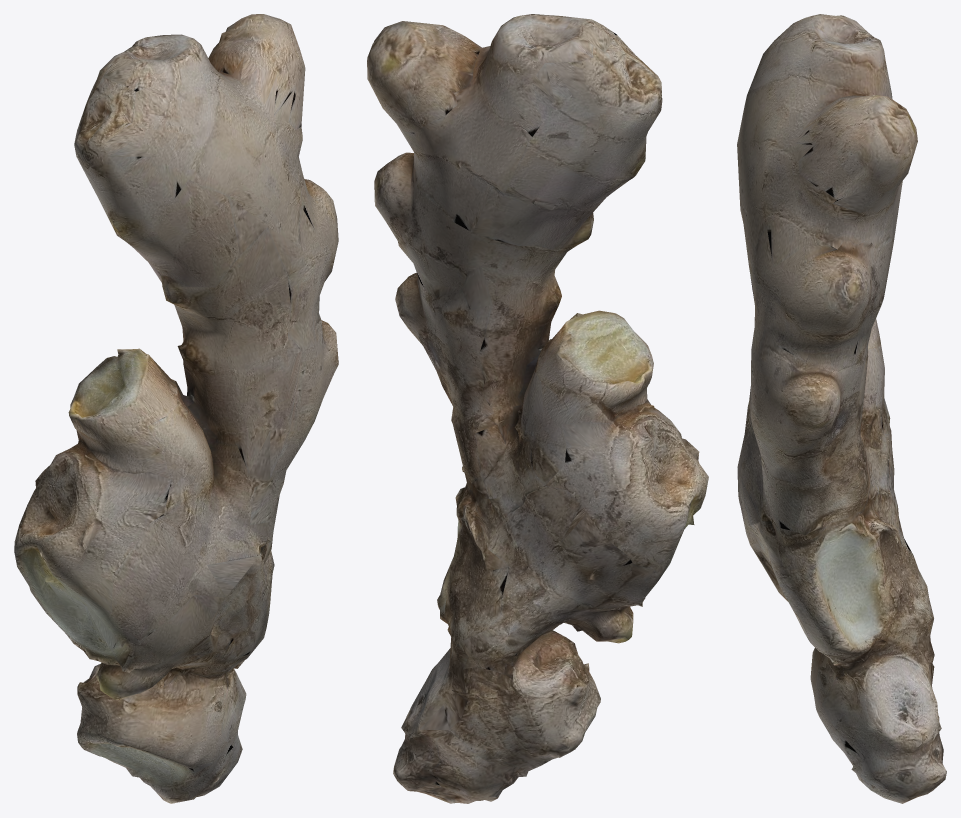
File: food_ginger_01.fbx
3 renders of one model, left to right at view 1: azimuth 30°, elevation 25°; view 2: azimuth 150°, elevation 25°; view 3: azimuth 270°, elevation 25°, orthographic. The views are drawn at different scales.
Visible parts, largest first — view 1: food_ginger_01_LOD0; view 2: food_ginger_01_LOD0; view 3: food_ginger_01_LOD0.
Part boxes in pixels (bbox=[...]): food_ginger_01_LOD0: bbox=[14, 14, 338, 803]; food_ginger_01_LOD0: bbox=[367, 14, 708, 803]; food_ginger_01_LOD0: bbox=[737, 14, 946, 803].
Size of what is drawn, in the model's own units: 24.05 by 57.46 by 14.76.
Materials: 1 (1 with a texture image).
